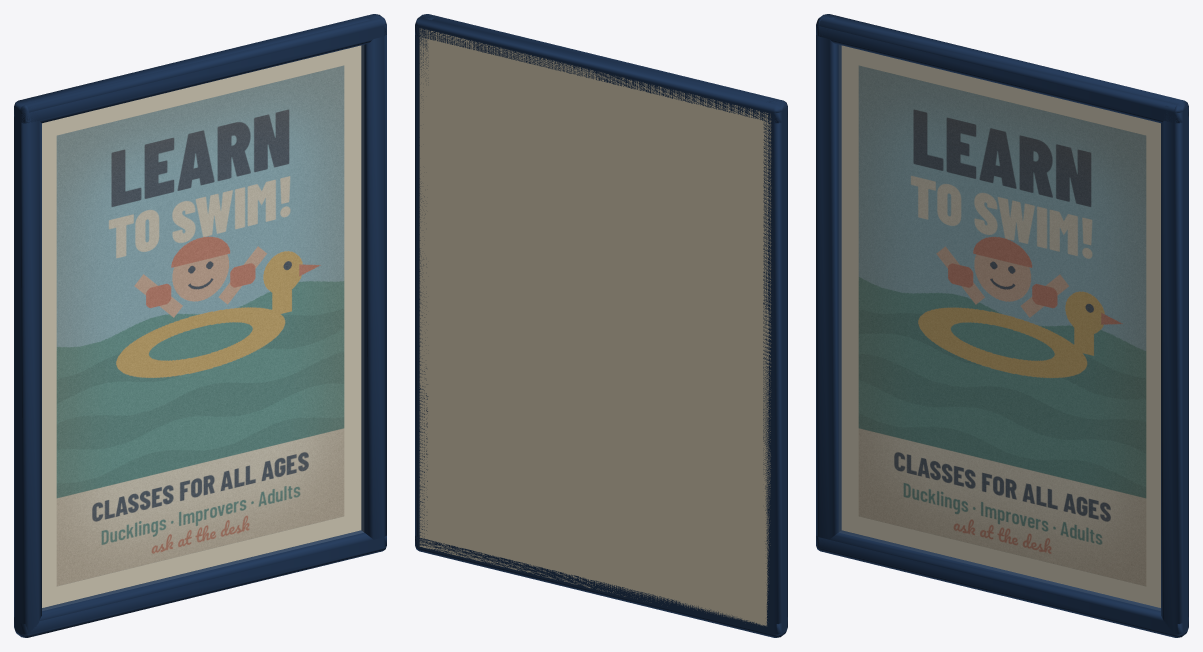
File: poster_learn.glb
3 views of the same model, side by side, from view 1: azimuth 30°, elevation 25°; view 2: azimuth 150°, elevation 25°; view 3: azimuth 330°, elevation 25° (orthographic).
Parts seen in each view (by area): view 1: PosterLearnBody, Glass_Poster; view 2: PosterLearnBody; view 3: PosterLearnBody, Glass_Poster.
Boxes of the visible parts, <box> form: PosterLearnBody: <box>14,14,386,637</box>; Glass_Poster: <box>42,45,363,610</box>; PosterLearnBody: <box>415,14,787,637</box>; PosterLearnBody: <box>816,14,1188,637</box>; Glass_Poster: <box>839,45,1160,610</box>.
Bounding box in the file's own units: 0.51 × 0.71 × 0.028.
Materials: 4 (1 with a texture image).
